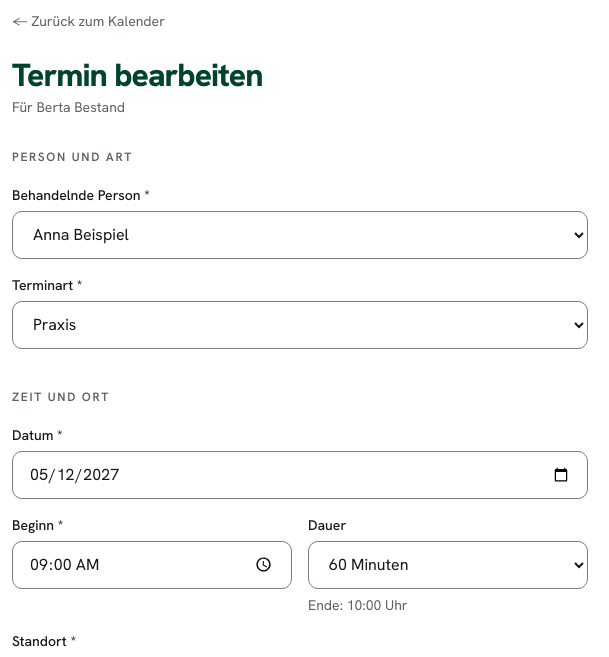
it: EditAppointmentPage › blendet beim Wechsel zu Video Standort und Adresse aus
Select "Video" in the dropdown labelled "Terminart *" at (300, 325), box [12,301,588,349]
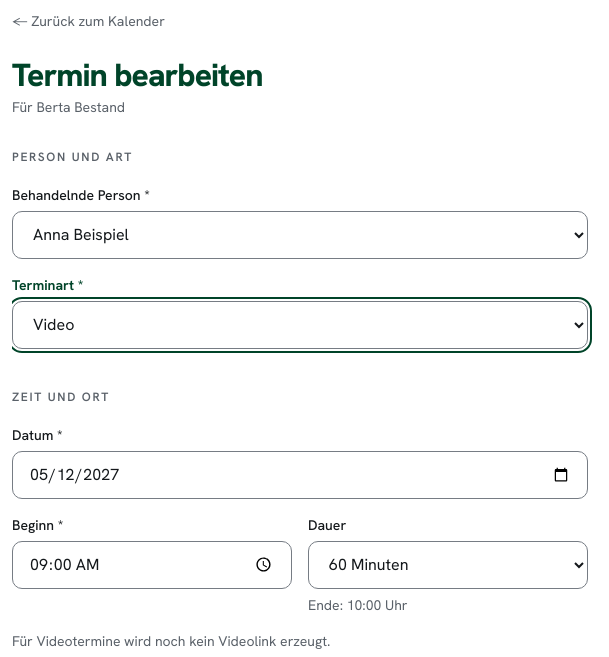
Now the text "Für Videotermine wird noch kein Videolink erzeugt." is shown, box [12,632,330,650]
Now the label labelled "Standort *" is gone
